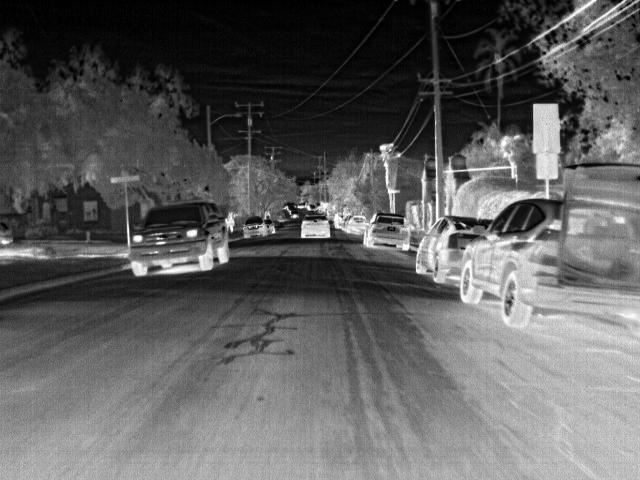car: (458, 198, 639, 331), (129, 198, 231, 278), (413, 214, 491, 285), (363, 210, 411, 252), (299, 215, 334, 240), (242, 216, 266, 239), (345, 216, 363, 232), (266, 220, 278, 234), (287, 206, 297, 216), (290, 211, 300, 220)
person: (225, 211, 235, 232), (334, 213, 341, 228)
